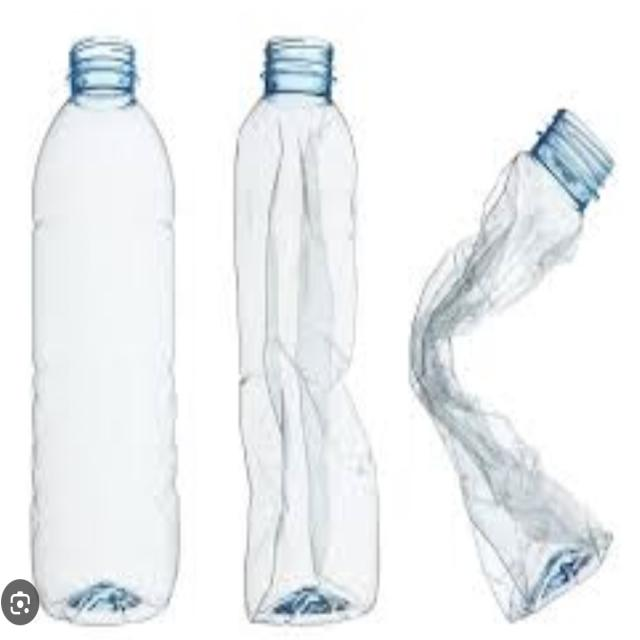recyclable: (392, 57, 630, 630), (205, 12, 410, 630), (22, 25, 205, 634)
